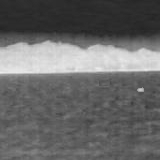Target: (136, 87, 145, 93)
